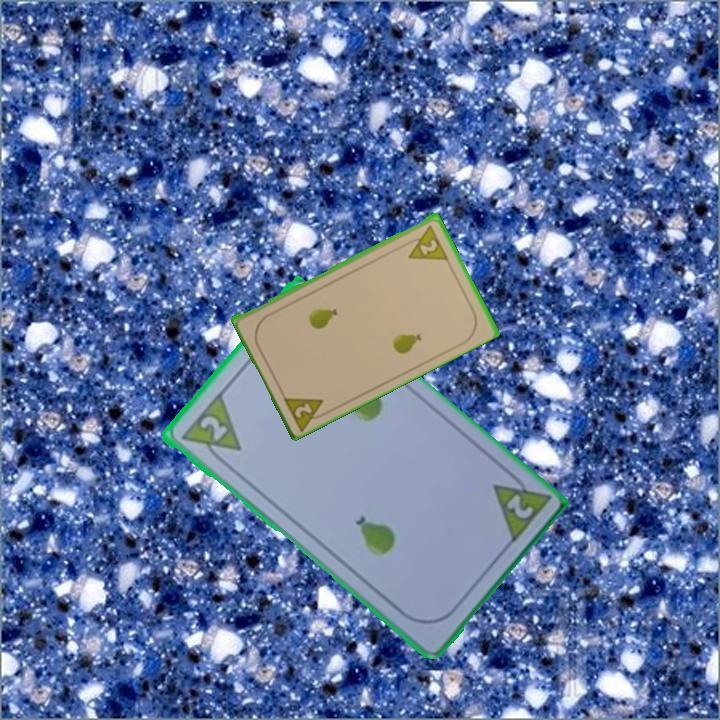2p: (487, 464, 552, 548), (176, 390, 243, 469), (279, 391, 333, 432), (400, 220, 451, 263)
